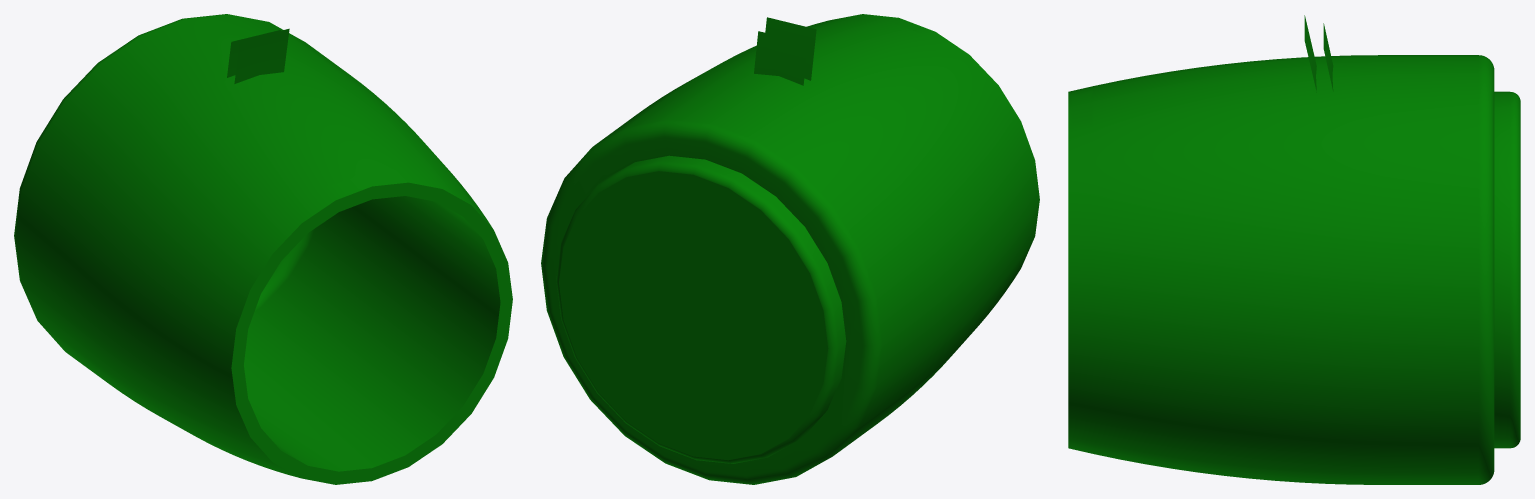
3 renders of one model, left to right at view 1: azimuth 30°, elevation 25°; view 2: azimuth 150°, elevation 25°; view 3: azimuth 270°, elevation 25°, orthographic. The views are drawn at different scales.
Size of the model in its own units: 0.5184 by 0.581 by 0.5437.
